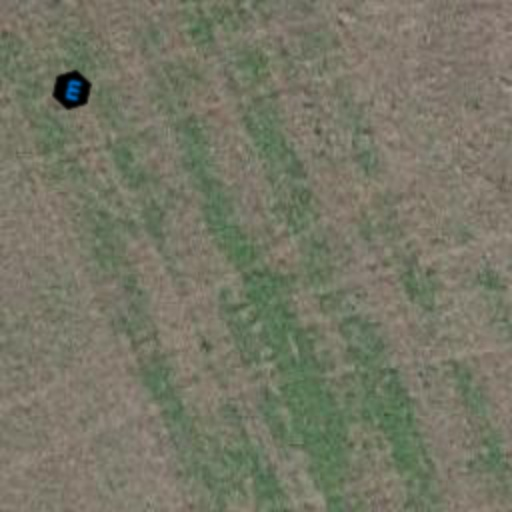hexagon: (46, 64, 98, 116)
